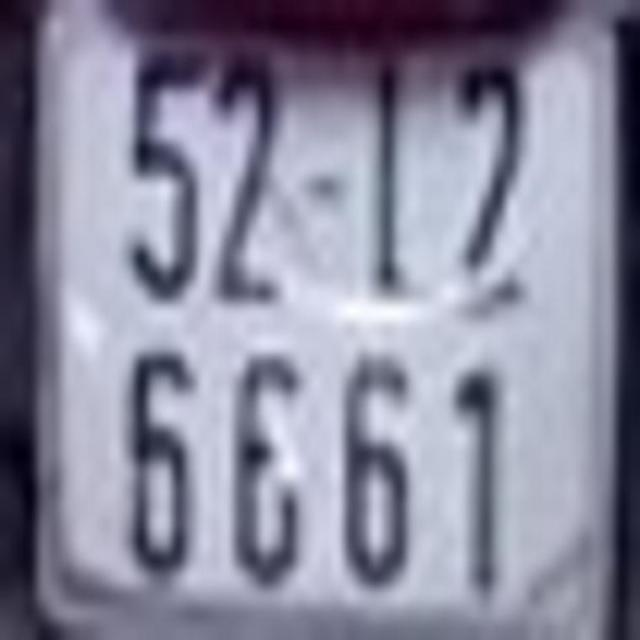1: (450, 359, 508, 595)
2: (459, 56, 536, 302), (215, 48, 284, 307)
5: (126, 45, 203, 292)
6: (129, 338, 201, 576), (232, 348, 299, 591), (343, 346, 405, 585)
L: (372, 53, 448, 310)
